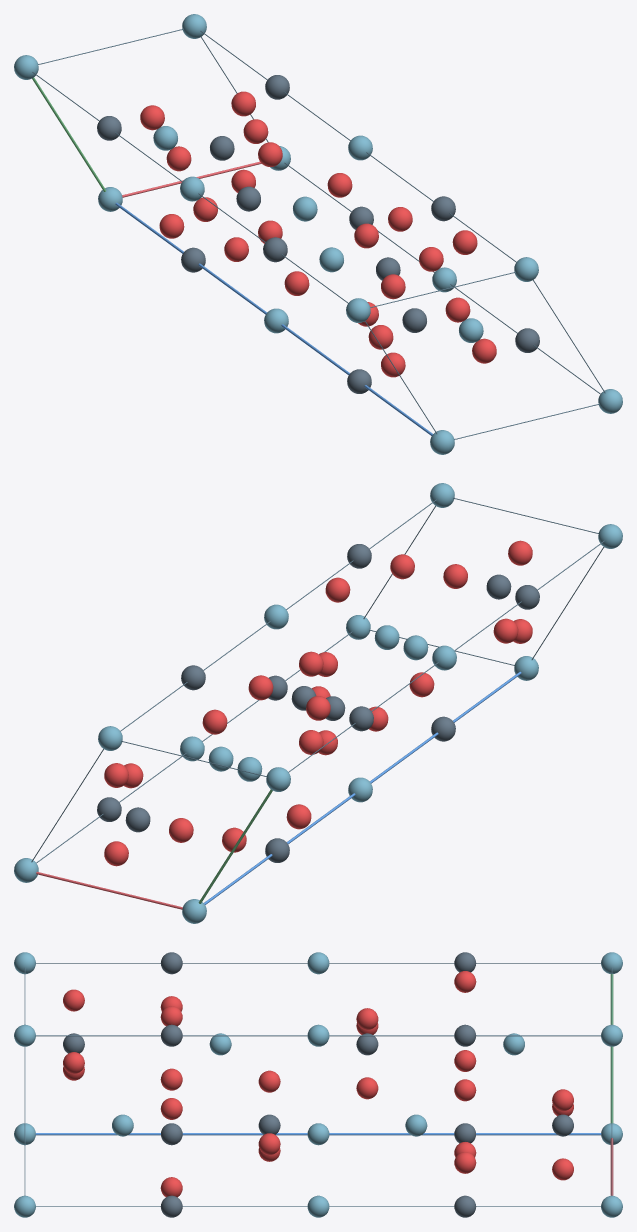
File: calcite.glb
3 renders of one model, top to bottom at view 1: azimuth 30°, elevation 25°; view 2: azimuth 150°, elevation 25°; view 3: azimuth 270°, elevation 25°, orthographic. The views are drawn at different scales.
Visible parts, largest first — view 1: Ô mạng và các trục a, b, c; view 2: Ô mạng và các trục a, b, c; view 3: Ca · Ca · 1 (×16), O · O · 1 (×14), Ô mạng và các trục a, b, c, C · C · 1 (×8).
Boxes of the visible parts, left/top/right/bottom form: Ô mạng và các trục a, b, c: left=32, top=28, right=605, bottom=439; Ô mạng và các trục a, b, c: left=31, top=497, right=604, bottom=909; Ca · Ca · 1 (×16): left=14, top=952, right=622, bottom=1217; O · O · 1 (×14): left=63, top=971, right=573, bottom=1180; Ô mạng và các trục a, b, c: left=24, top=963, right=613, bottom=1206; C · C · 1 (×8): left=160, top=952, right=573, bottom=1217.
Bounding box in the file's own units: 8.12 × 4.96 × 17.7.
